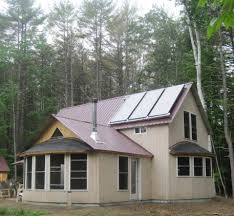Tin-shade House: (19, 83, 219, 207)
